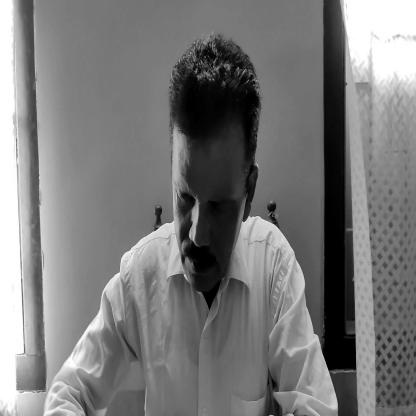Normal: (173, 44, 265, 297)
